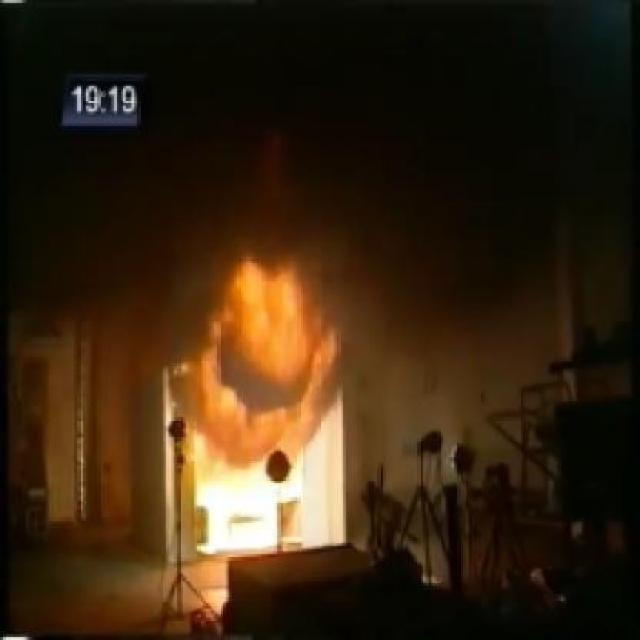fire: (185, 244, 357, 444)
